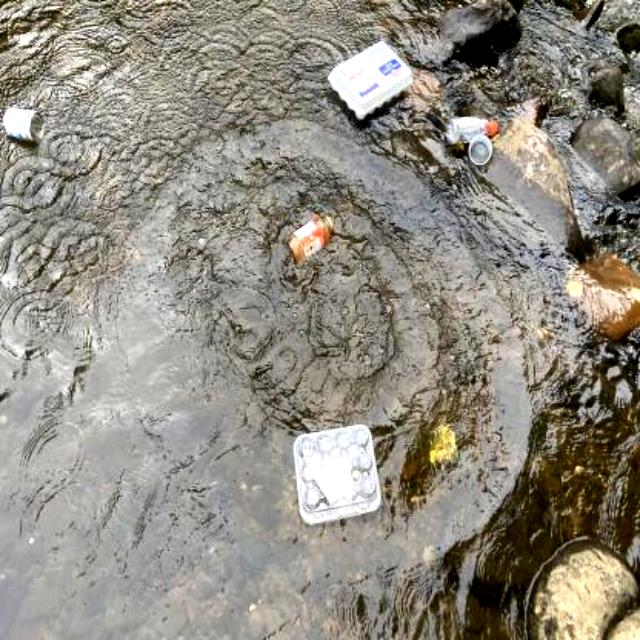Glass: (282, 211, 338, 263)
Metal: (0, 103, 52, 147), (420, 424, 460, 472)
Plastic: (286, 420, 386, 530), (320, 35, 422, 127), (438, 108, 504, 164)
